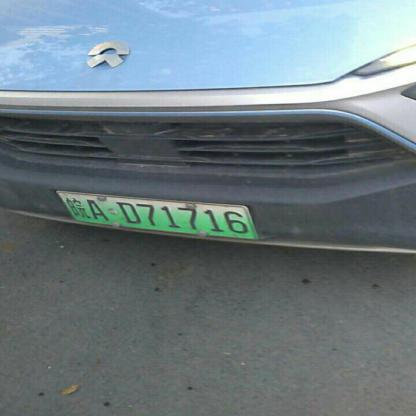lp: (60, 190, 258, 240)
